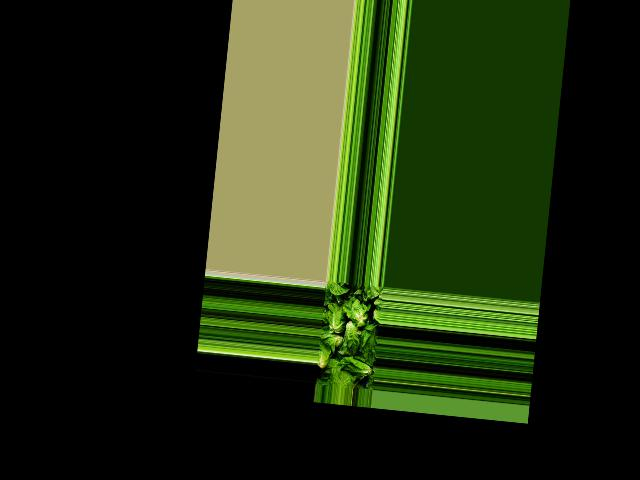lettuce: (316, 338, 333, 373)
